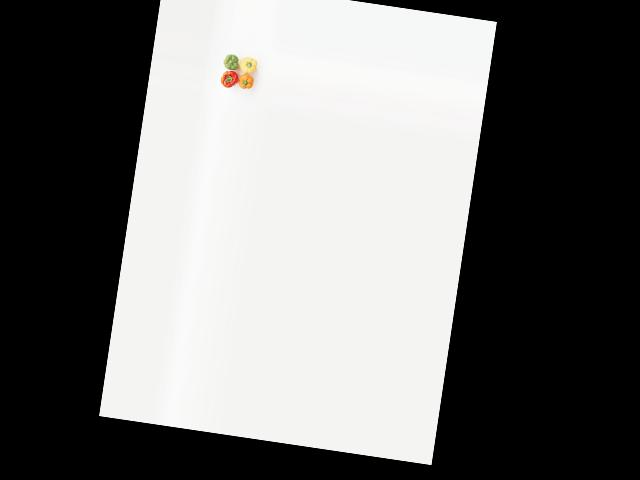bell_pepper: (221, 48, 242, 74)
